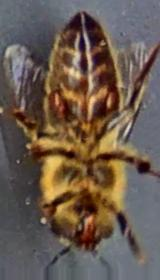varroa_mite: (43, 81, 76, 127), (96, 80, 123, 114)
